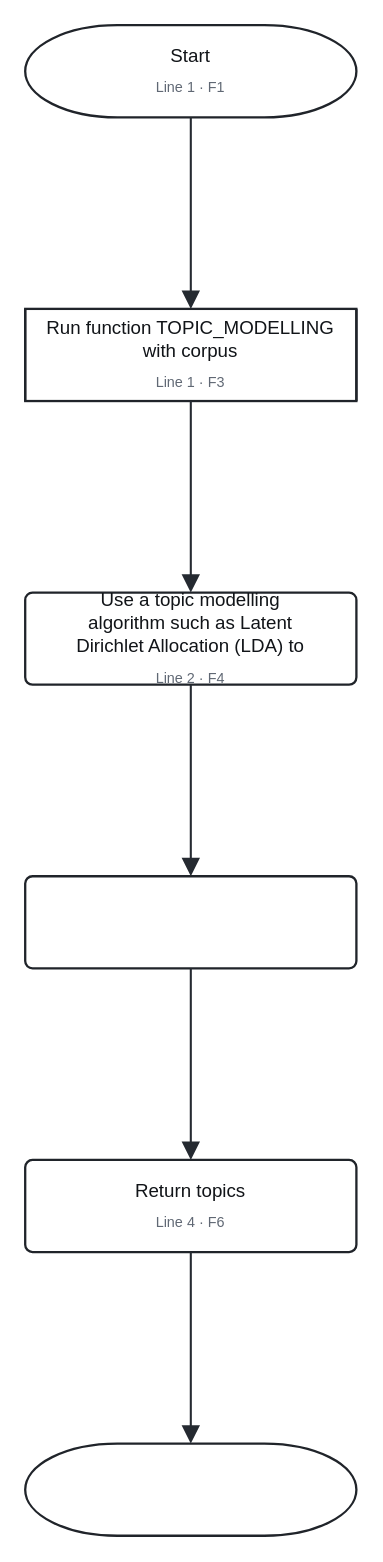
Some shapes in this 383 by 1562 pixel diagram are drawn without their labels. Here are the shapes that lost their labels. From the top down, the box of each, then its label:
(23, 874, 357, 969): Set topics to the result of EXTRACT_TOPICS(corpus) Line 3 · F5
(23, 1442, 357, 1536): End Line 1 · F2
